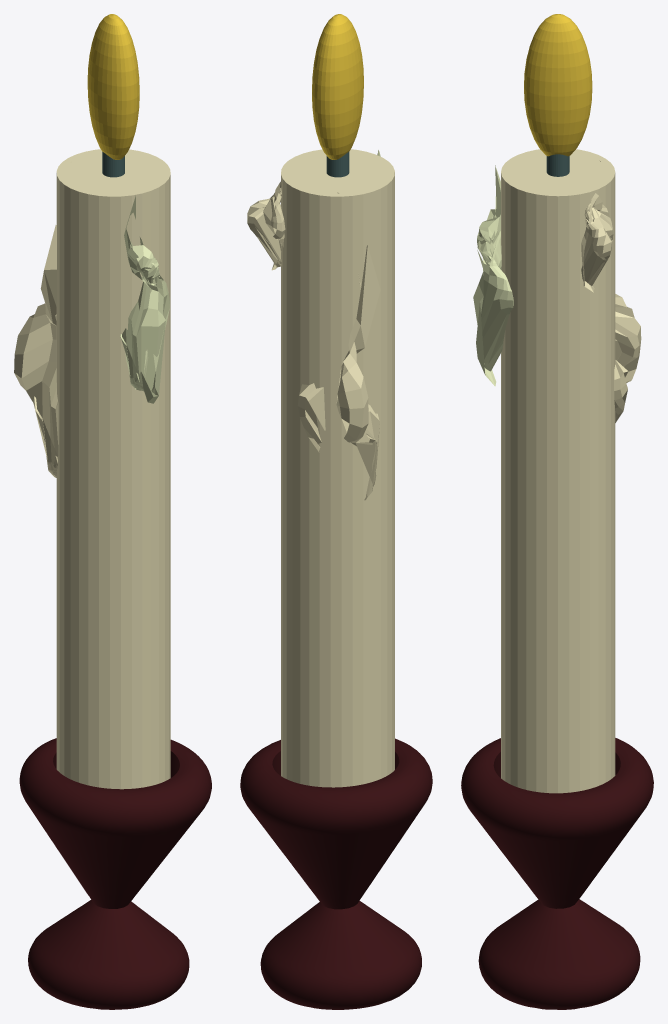
The model's file is vela2.fbx.
3 views of the same model, side by side, from view 1: azimuth 30°, elevation 25°; view 2: azimuth 150°, elevation 25°; view 3: azimuth 270°, elevation 25° (orthographic).
Parts seen in each view (by area): view 1: Cilindro, Cubo, Esfera.003, Esfera, Esfera.001; view 2: Cilindro, Cubo, Esfera, Esfera.003, Esfera.002, Cilindro.001; view 3: Cilindro, Cubo, Esfera.003, Esfera.001, Esfera, Esfera.002, Cilindro.001.
Boxes of the visible parts, box(x1,y1,x2,y2) form: Cilindro: box(56, 149, 170, 789); Cubo: box(19, 738, 211, 1009); Esfera.003: box(87, 14, 139, 159); Esfera: box(14, 161, 71, 477); Esfera.001: box(120, 195, 169, 403); Cilindro: box(281, 149, 394, 787); Cubo: box(240, 738, 432, 1009); Esfera: box(297, 192, 380, 500); Esfera.003: box(312, 14, 363, 159); Esfera.002: box(247, 180, 285, 270); Cilindro.001: box(326, 152, 349, 177); Cilindro: box(501, 149, 615, 793); Cubo: box(461, 738, 653, 1009); Esfera.003: box(524, 14, 592, 156); Esfera.001: box(473, 165, 513, 386); Esfera: box(600, 161, 641, 422); Esfera.002: box(581, 193, 613, 292); Cilindro.001: box(546, 154, 569, 176).
Bounding box in the file's own units: 168 × 937 × 169.
